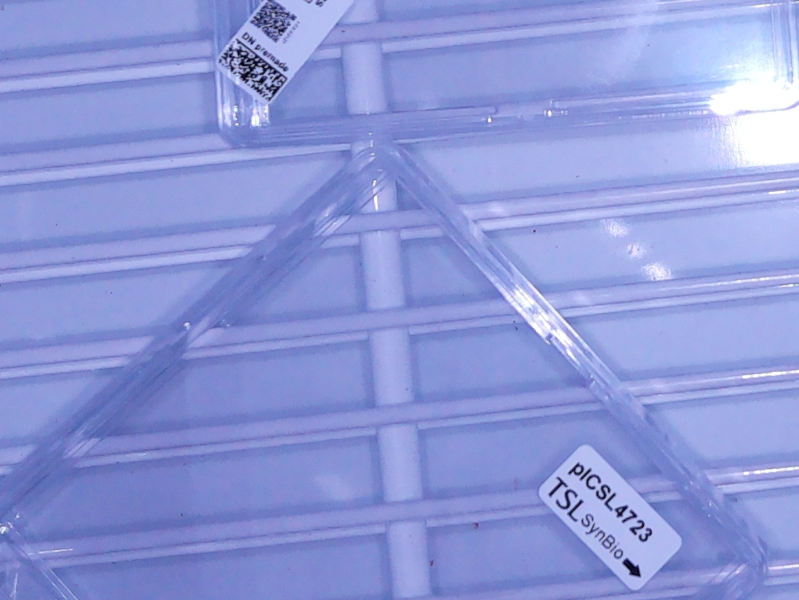plate: (1, 144, 768, 600), (211, 1, 799, 149)
